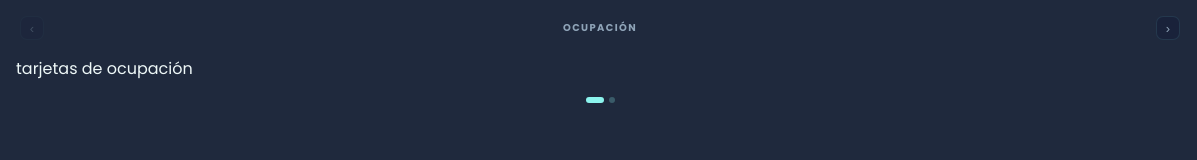
Test: en el celular muestra un panel a la vez con flechas
Check: the text "tarjetas de ocupación" is shown, box 16,57 -> 193,80
Check: the text "tarjetas de tarifas" is not shown
Click the button named "Siguiente".
click(1168, 28)  # box 1156,16 -> 1180,40
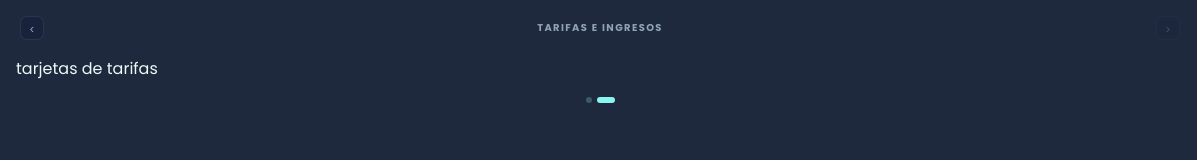
Check: the text "tarjetas de tarifas" is shown, box 16,57 -> 158,80
